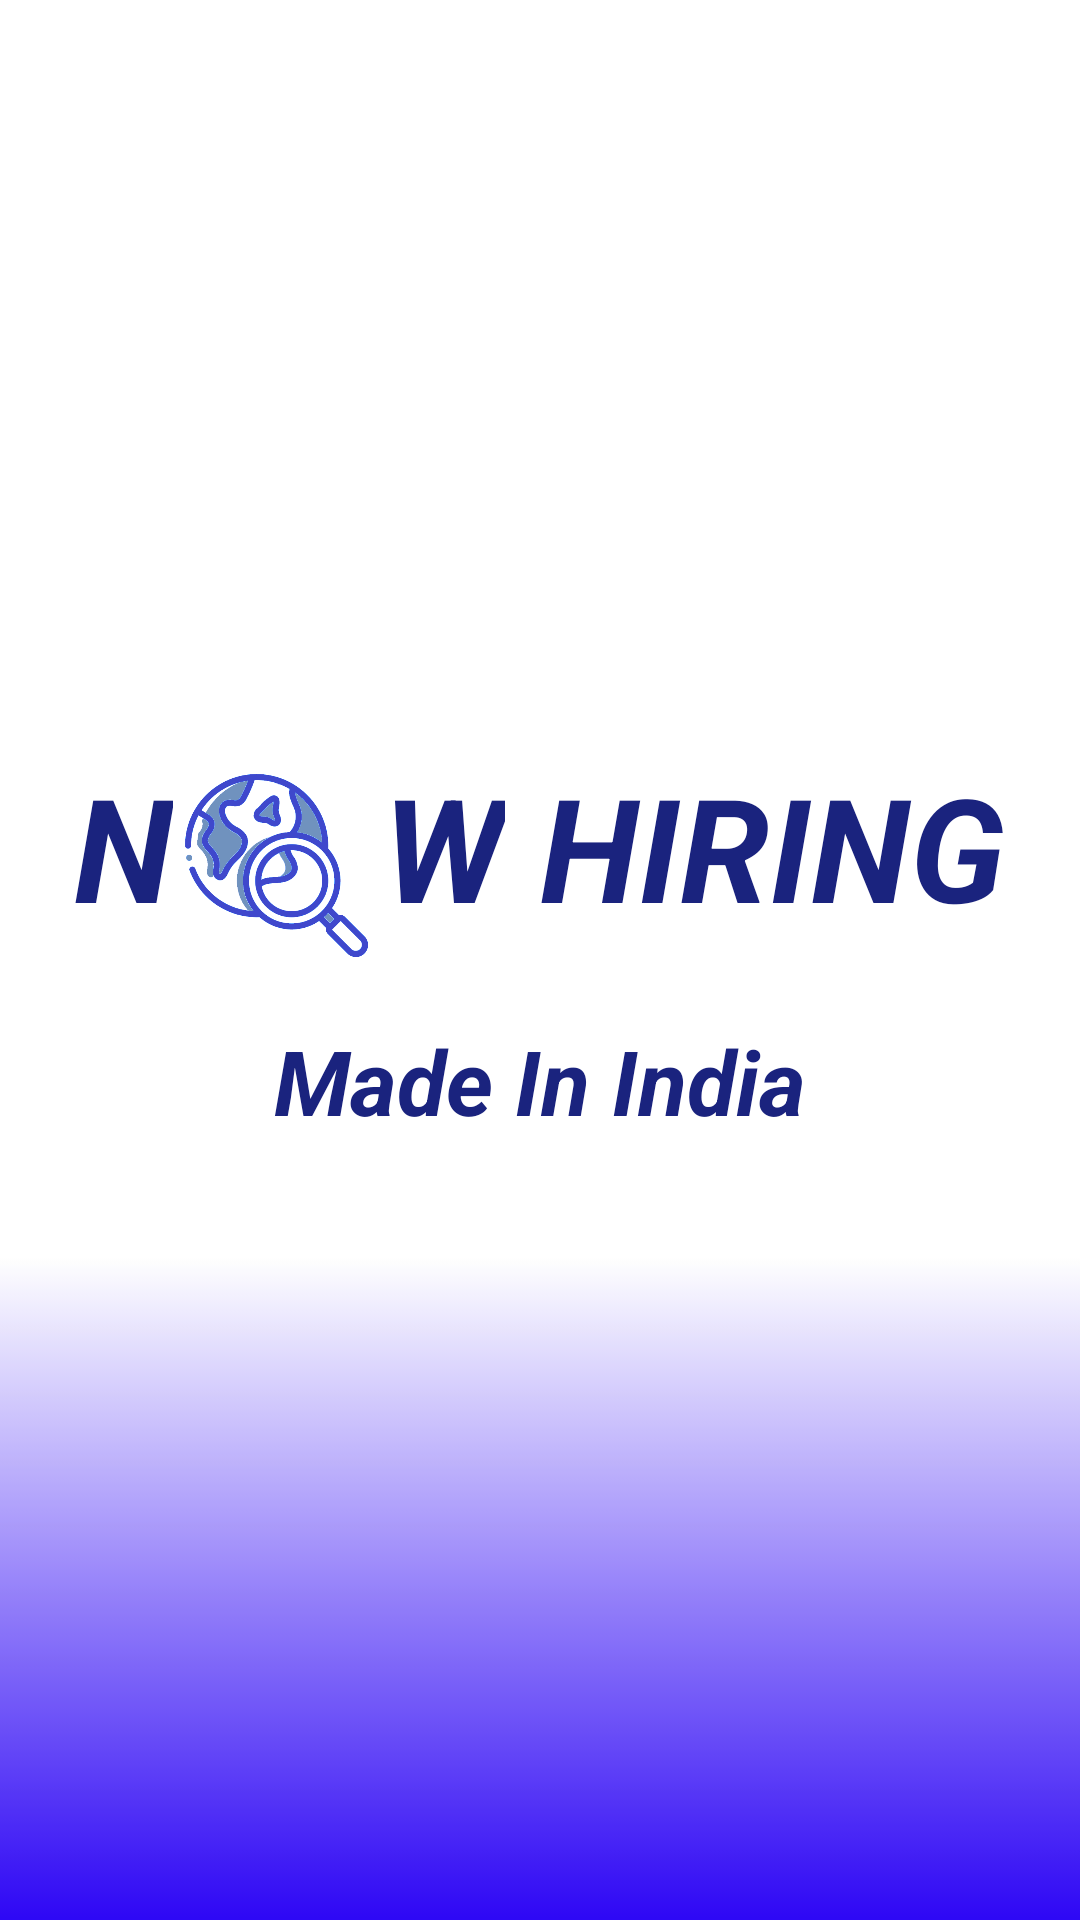

Locate icon controls on the screen. Image size 1080 × 1920, boxes as (x1, y1, x2, y2).
search: (185, 774, 368, 957)
